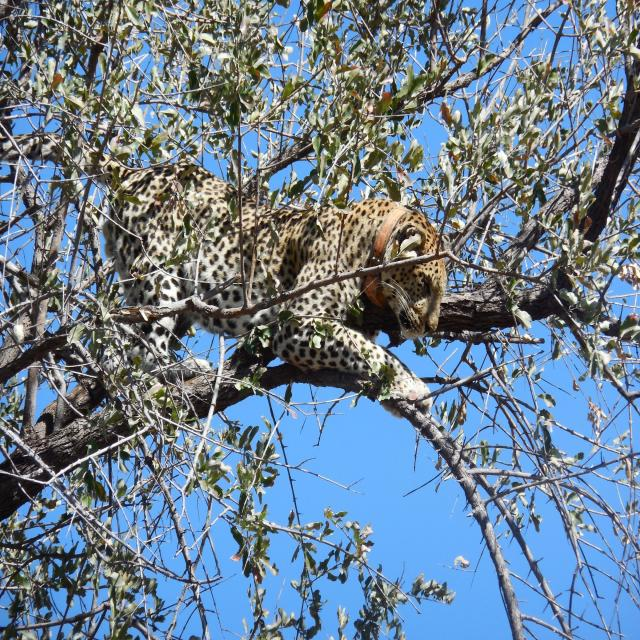Leopard: (6, 123, 445, 425)
